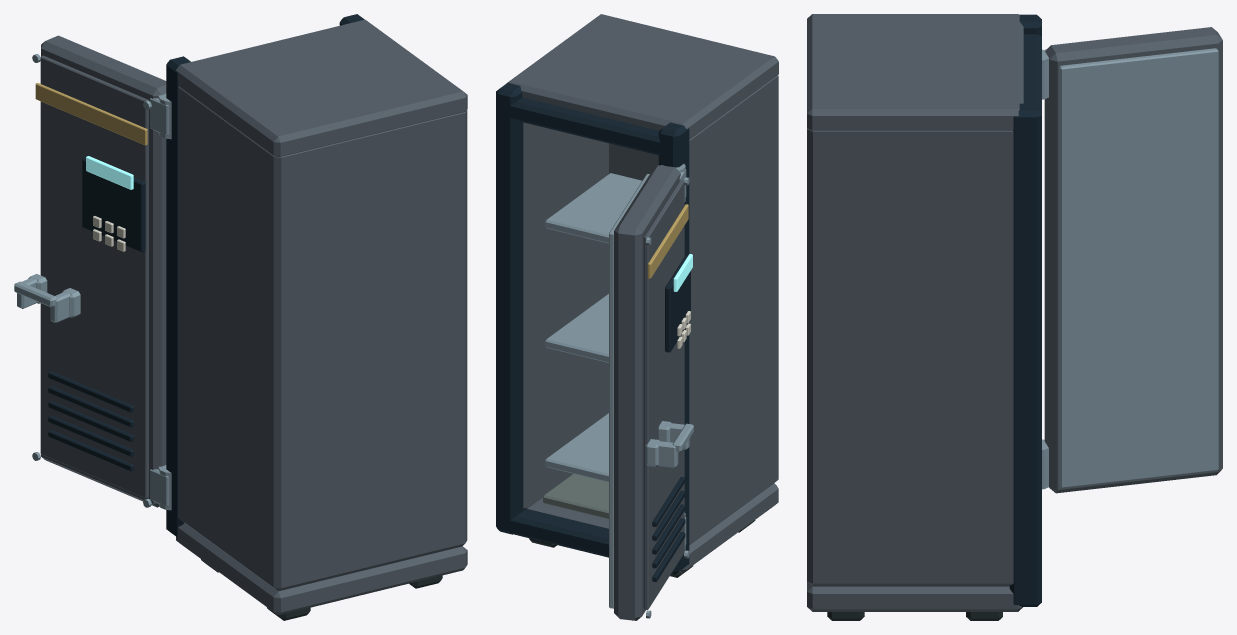
The model's file is secure_equipment_locker_opened.glb.
The picture shows the model from 3 angles, left to right: view 1: azimuth 30°, elevation 25°; view 2: azimuth 150°, elevation 25°; view 3: azimuth 270°, elevation 25°; orthographic projection. The views are drawn at different scales.
Parts seen in each view (by area): view 1: body_back_wall, body_left_wall, moving_front_inset, body_roof, moving_door, body_right_wall, body_floor, front_frame, moving_vent (×5), moving_control_panel, moving_type_stripe, moving_lcd; view 2: body_left_wall, body_right_wall, front_frame (×4), body_roof, moving_door, moving_front_inset, interior_shelf (×3), body_back_wall, body_floor, moving_inner_door_plate, interior_lining, moving_vent (×4) (+3 smaller); view 3: body_right_wall, moving_inner_door_plate, body_roof, front_frame (×2), moving_door, body_floor, body_back_wall.
Boxes of the visible parts, x1,y1,x2,y2 form: body_back_wall: [269, 112, 464, 590]; body_left_wall: [178, 86, 295, 591]; moving_front_inset: [40, 55, 148, 498]; body_roof: [175, 19, 467, 156]; moving_door: [41, 35, 166, 507]; body_right_wall: [451, 109, 467, 546]; body_floor: [176, 523, 467, 615]; front_frame: [166, 56, 190, 536]; moving_vent (×5): [48, 371, 133, 471]; moving_control_panel: [82, 157, 145, 252]; moving_type_stripe: [35, 83, 147, 145]; moving_lcd: [86, 156, 133, 189]; body_left_wall: [689, 75, 778, 544]; body_right_wall: [523, 122, 608, 509]; front_frame (×4): [496, 82, 689, 574]; body_roof: [507, 14, 778, 139]; moving_door: [614, 165, 680, 620]; moving_front_inset: [643, 180, 684, 609]; interior_shelf (×3): [545, 173, 641, 482]; body_back_wall: [609, 75, 778, 486]; body_floor: [527, 483, 778, 572]; moving_inner_door_plate: [609, 174, 649, 608]; interior_lining: [543, 474, 608, 519]; moving_vent (×4): [652, 490, 685, 582]; body_right_wall: [807, 128, 1013, 586]; moving_inner_door_plate: [1059, 48, 1218, 487]; body_roof: [807, 14, 1023, 130]; front_frame (×2): [1009, 34, 1041, 606]; moving_door: [1044, 27, 1222, 493]; body_floor: [807, 581, 1022, 611]; body_back_wall: [813, 131, 830, 586].
Bounding box in the file's own units: 1.07 × 1.85 × 1.34.
